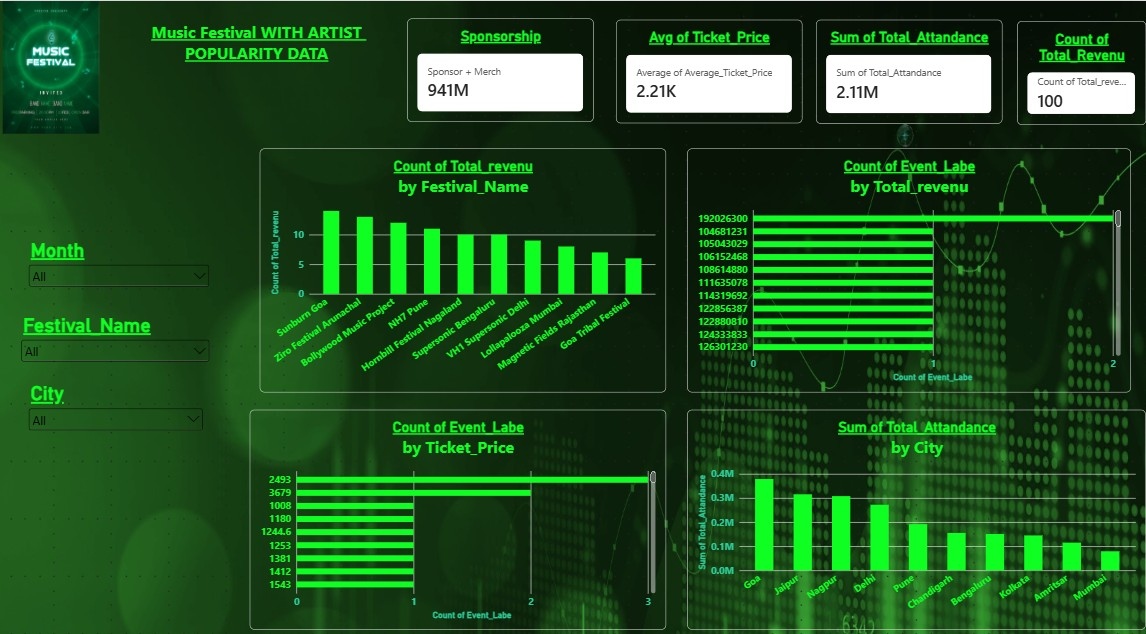

This screenshot's page, from the dashboard's own definition file:
{"tool":"powerbi","page":{"name":"Page 1","canvas":[1920,1080],"ordinal":0},"visuals":[{"type":"clusteredColumnChart","fields":{"Category":["Music_Festival_Data.Festival_Name"],"Y":["CountNonNull(Music_Festival_Data.Total_revenu)"]},"box":[440.3,246.3,678.3,407],"z":0},{"type":"clusteredBarChart","fields":{"Category":["Music_Festival_Data.Ticket_Price"],"Y":["CountNonNull(Music_Festival_Data.Event_Labe)"]},"box":[423.7,682.4,695,367.3],"z":1000},{"type":"clusteredBarChart","fields":{"Y":["CountNonNull(Music_Festival_Data.Event_Labe)"],"Category":["Music_Festival_Data.Total_revenu"]},"box":[1154.1,246.3,740.9,407],"z":2000},{"type":"clusteredColumnChart","fields":{"Category":["Music_Festival_Data.City"],"Y":["Sum(Music_Festival_Data.Total_Attandance)"]},"box":[1154.1,682.4,765.9,367.3],"z":3000},{"type":"slicer","fields":{"Values":["Music_Festival_Data.City"]},"box":[50.1,636.5,300.5,89.7],"z":4000},{"type":"slicer","fields":{"Values":["Music_Festival_Data.Festival_Name"]},"box":[37.6,521.7,323.5,100.2],"z":5000},{"type":"slicer","fields":{"Values":["Music_Festival_Data.Month"]},"box":[50.1,396.5,311,108.5],"z":6000},{"type":"cardVisual","title":"Sum of Total_Attandance ","fields":{"Data":["Sum(Music_Festival_Data.Total_Attandance)"]},"box":[1369,16.7,311,173.2],"z":7000},{"type":"cardVisual","title":"Count of Total_Revenu","fields":{"Data":["CountNonNull(Music_Festival_Data.Total_revenu)"]},"box":[1705,16.7,215,173.2],"z":8000},{"type":"cardVisual","title":"Avg of Ticket_Price","fields":{"Data":["Avg(Artist_Popularity_Data.Average_Ticket_Price)"]},"box":[1031,18.8,311,173],"z":9000},{"type":"cardVisual","title":"Sponsorship","fields":{"Data":["Artist_Popularity_Data.Sponsor + Merch"]},"box":[697,16.7,311,173],"z":10000},{"type":"textbox","box":[0,292.2,423.7,104.3],"z":11000},{"type":"image","box":[0,0,361,231.7],"z":12000}]}

Visuals, with their boxes in screenshot pixels (x1, y1, x2, y2), scaled from the page's 1920x1080 canvas onto the 1146x634 screenshot:
clusteredColumnChart - Music_Festival_Data.Festival_Name x CountNonNull(Music_Festival_Data.Total_revenu): box=[263, 145, 668, 384]
clusteredBarChart - Music_Festival_Data.Ticket_Price x CountNonNull(Music_Festival_Data.Event_Labe): box=[253, 401, 668, 616]
clusteredBarChart - CountNonNull(Music_Festival_Data.Event_Labe) x Music_Festival_Data.Total_revenu: box=[689, 145, 1131, 384]
clusteredColumnChart - Music_Festival_Data.City x Sum(Music_Festival_Data.Total_Attandance): box=[689, 401, 1145, 616]
slicer - Music_Festival_Data.City: box=[30, 374, 209, 426]
slicer - Music_Festival_Data.Festival_Name: box=[22, 306, 216, 365]
slicer - Music_Festival_Data.Month: box=[30, 233, 216, 296]
"Sum of Total_Attandance " cardVisual: box=[817, 10, 1003, 111]
"Count of Total_Revenu" cardVisual: box=[1018, 10, 1145, 111]
"Avg of Ticket_Price" cardVisual: box=[615, 11, 801, 113]
"Sponsorship" cardVisual: box=[416, 10, 602, 111]
textbox: box=[0, 172, 253, 233]
image: box=[0, 0, 215, 136]
